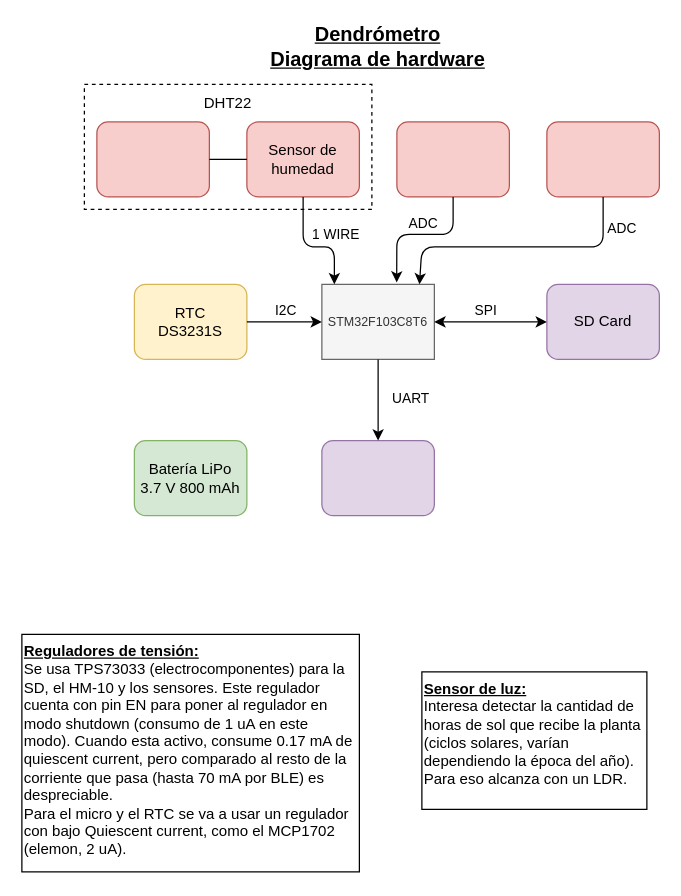
The diagram is 681 pixels wide and 896 high, and some of its shapes have lost their labels. The shapes that lost their labels are listed below. From the top down, each one's centre as x and y in pixels, then its label:
At [152,159]: "Sensor de temperatura".
At [452,159]: "LDR (horas de luz)".
At [602,159]: "Sensor flexible (diámetro)".
At [377,477]: "HM-10 (BLE)".
